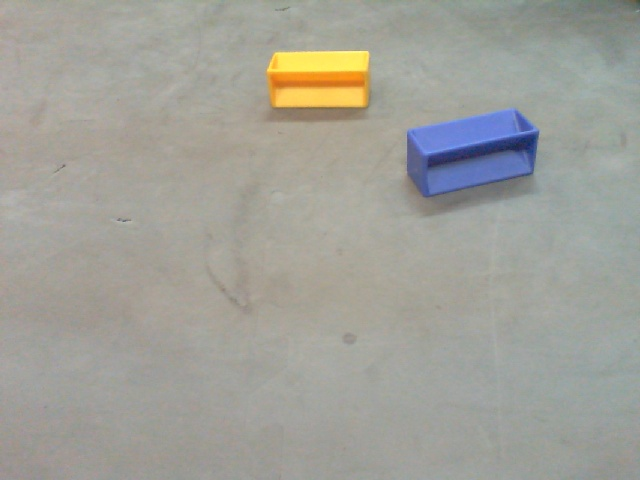BlueSample: (399, 106, 542, 198)
YellowSample: (265, 49, 371, 110)
